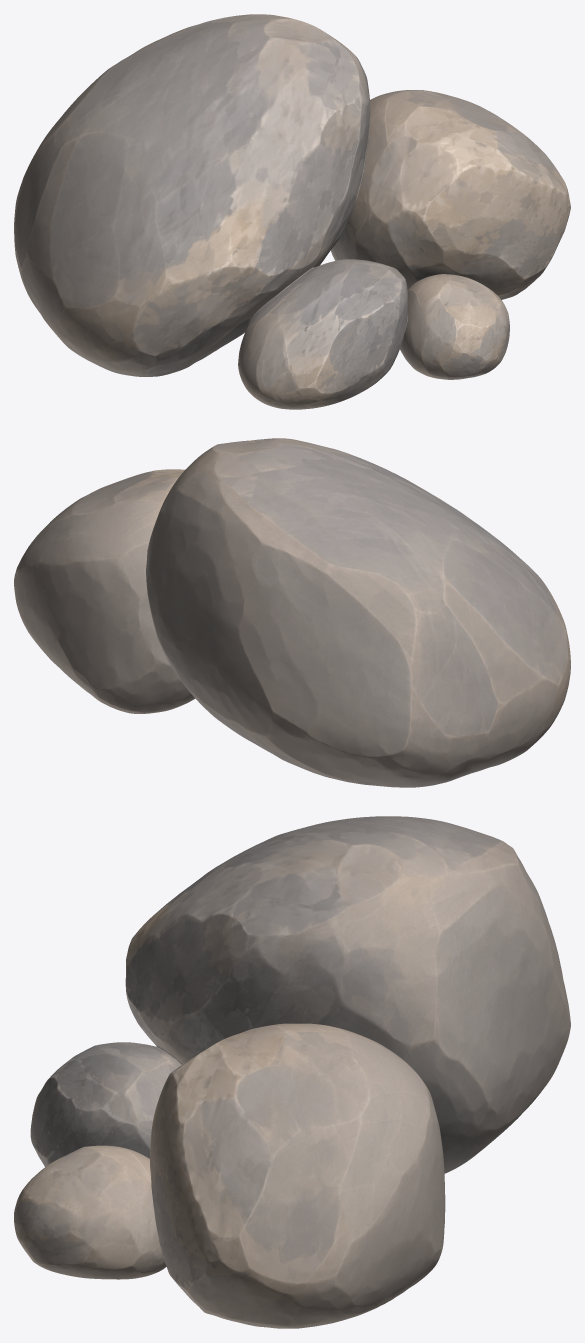
The model's file is Kieselsteine.glb.
3 renders of one model, top to bottom at view 1: azimuth 30°, elevation 25°; view 2: azimuth 150°, elevation 25°; view 3: azimuth 270°, elevation 25°, orthographic. The views are drawn at different scales.
Size of the model in its own units: 1.9 by 1.02 by 1.4.
Materials: 1 (1 with a texture image).
